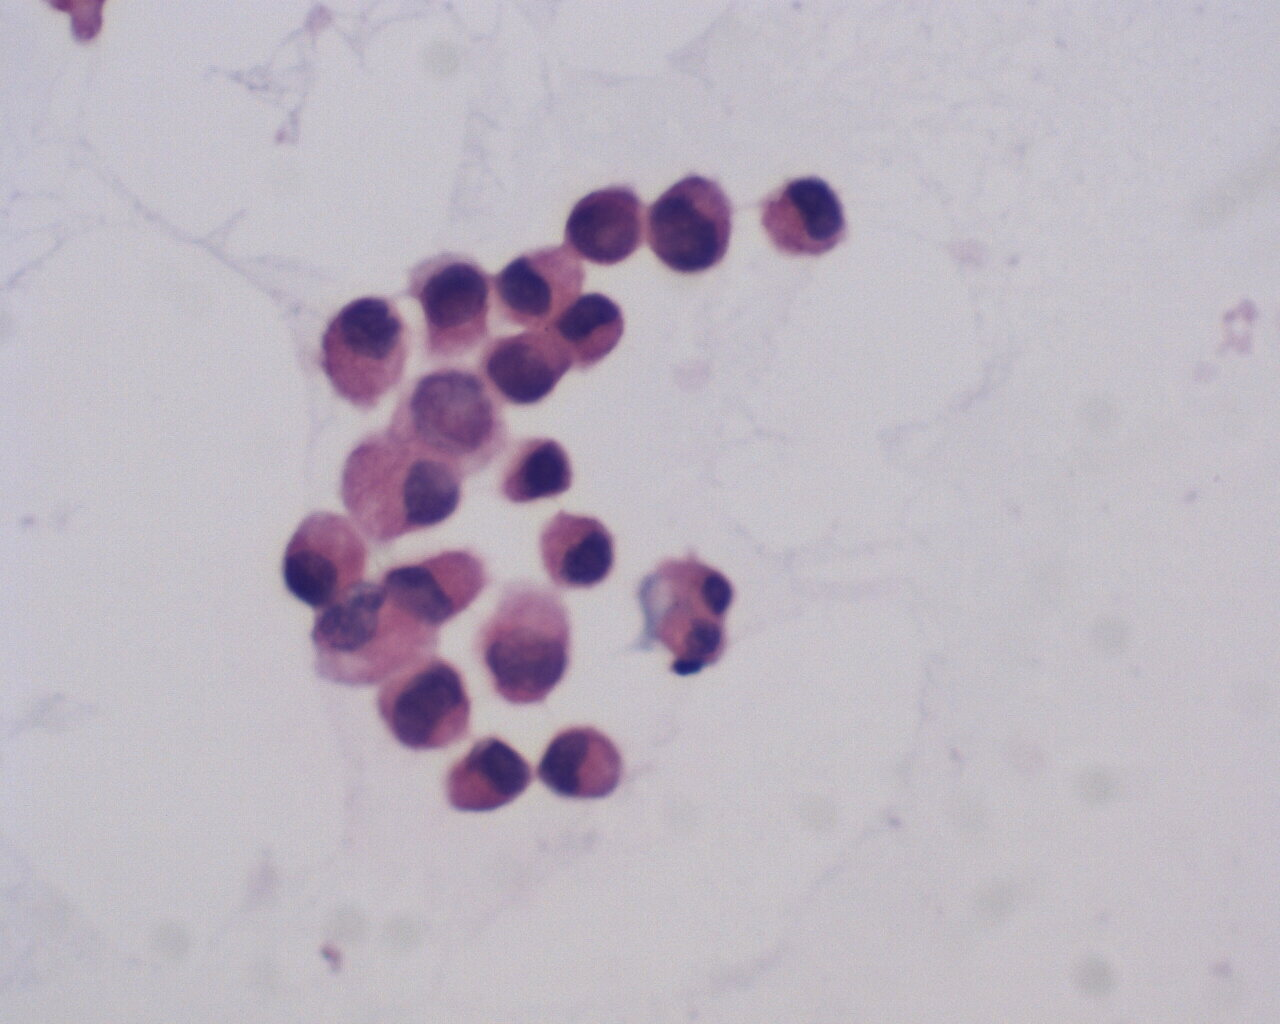ab: (318, 294, 415, 409), (374, 653, 476, 757), (648, 170, 740, 282), (757, 172, 853, 264), (533, 718, 628, 807), (443, 735, 531, 824), (414, 254, 490, 354), (485, 328, 567, 416), (533, 515, 621, 590), (569, 184, 648, 267), (499, 433, 579, 508)
meso: (277, 507, 370, 608)
